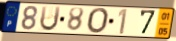1: (117, 8, 128, 36)
7: (139, 9, 157, 37)
8: (65, 7, 85, 34), (20, 5, 39, 31)
O: (86, 7, 110, 35)
U: (38, 6, 62, 33)
